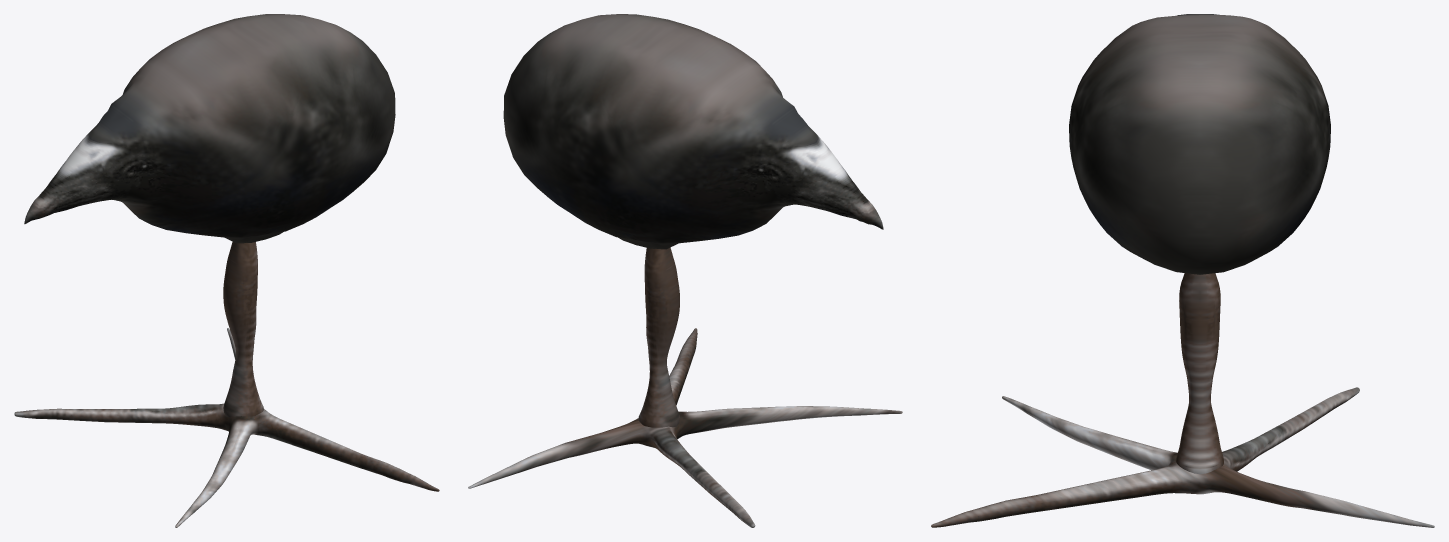
The model's file is birdtripod.glb.
3 views of the same model, side by side, from view 1: azimuth 30°, elevation 25°; view 2: azimuth 150°, elevation 25°; view 3: azimuth 270°, elevation 25° (orthographic). The views are drawn at different scales.
Parts seen in each view (by area): view 1: bird, foot, leg; view 2: bird, foot, leg; view 3: bird, foot, leg.
Boxes of the visible parts, x1=… form: bird: x1=24, y1=14, x2=395, y2=243; foot: x1=14, y1=328, x2=439, y2=527; leg: x1=223, y1=242, x2=263, y2=417; bird: x1=503, y1=14, x2=883, y2=249; foot: x1=468, y1=328, x2=902, y2=527; leg: x1=638, y1=247, x2=679, y2=427; bird: x1=1069, y1=14, x2=1330, y2=274; foot: x1=931, y1=387, x2=1434, y2=527; leg: x1=1176, y1=273, x2=1223, y2=474.
Size of the model in its own units: 3.73 by 3.91 by 3.88.
2 materials, 2 textured.
